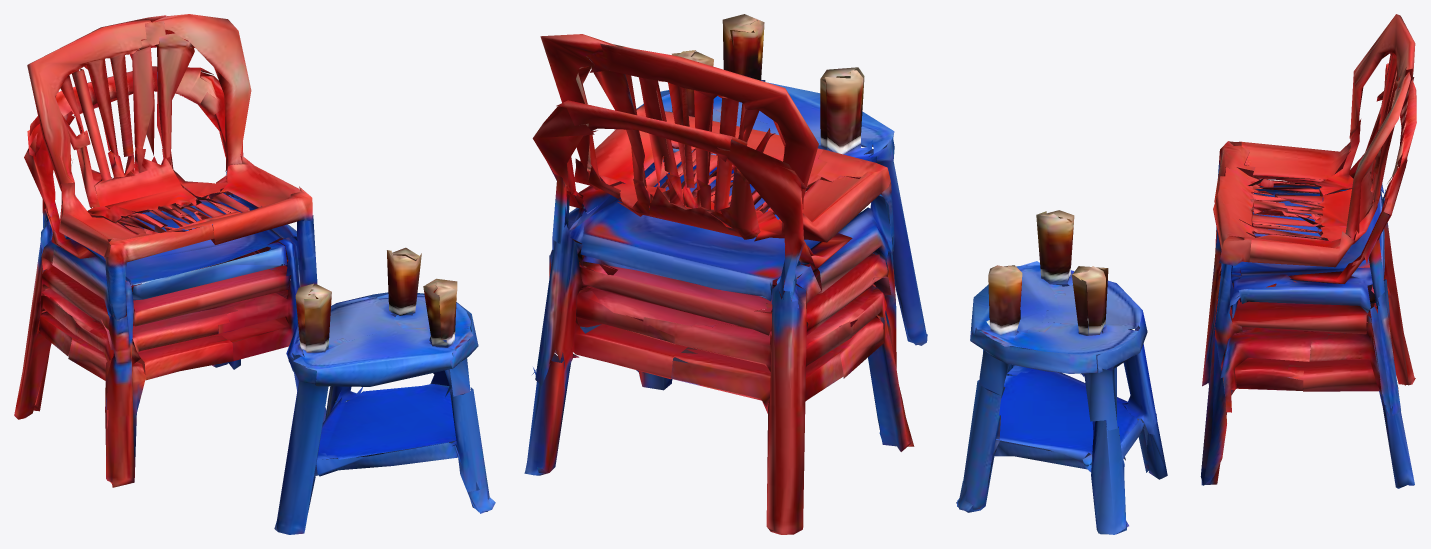
The model's file is plastic-chairs.glb.
3 views of the same model, side by side, from view 1: azimuth 30°, elevation 25°; view 2: azimuth 150°, elevation 25°; view 3: azimuth 270°, elevation 25° (orthographic). The views are drawn at different scales.
Visible parts, largest first — view 1: model; view 2: model; view 3: model.
Boxes of the visible parts, x1,y1,x2,y2 form: model: (14, 14, 495, 534); model: (524, 14, 927, 534); model: (956, 14, 1416, 534).
Bounding box in the file's own units: 0.8903 × 1 × 1.09.
Materials: 1 (1 with a texture image).
